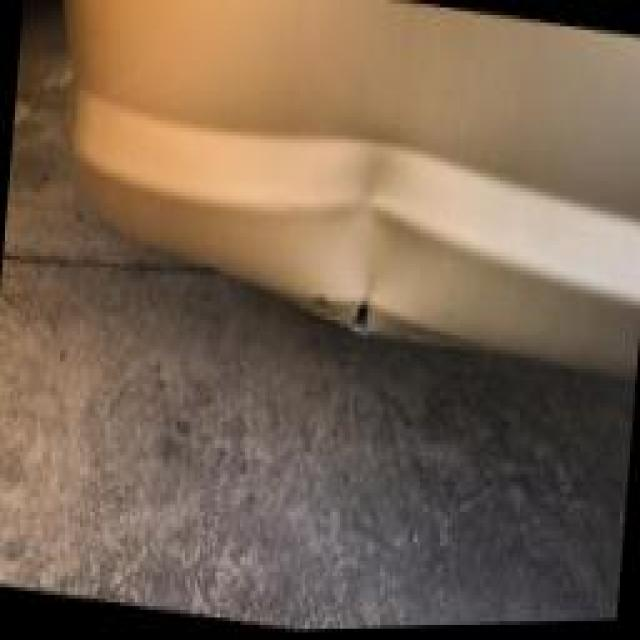Bumper: (252, 94, 455, 363)
